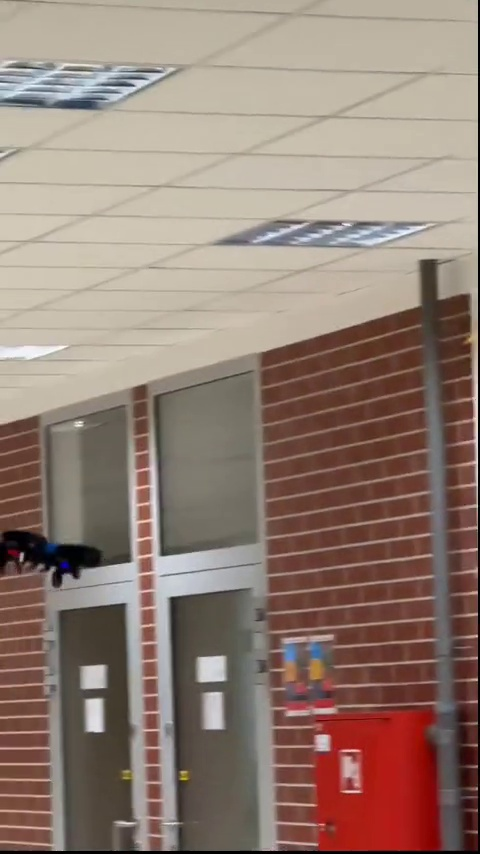drone: (0, 525, 109, 586)
